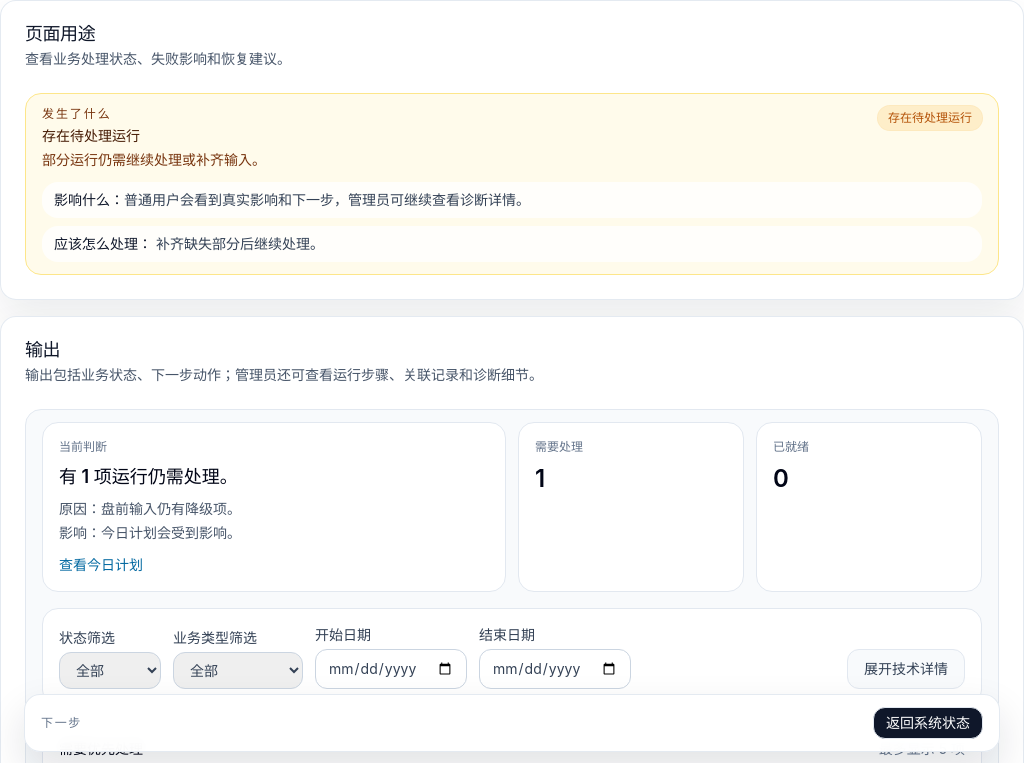
Scenario: SystemPage › shows admin diagnostics on /system/runs only for admins
The image size is (1024, 763).
expect the text "job-1" is not shown: met
Step 1. Click the button "展开技术详情" → (906, 669), box top-left (847, 649), bottom-right (965, 689)
(page scrolled)
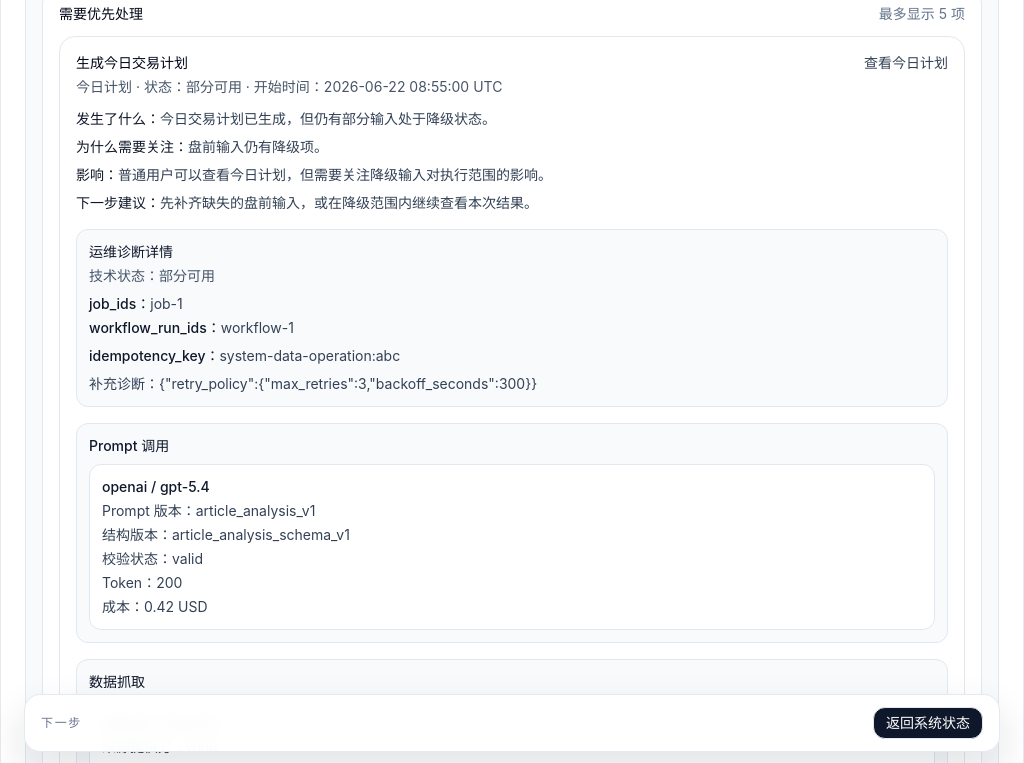
expect the text "job-1" is shown: met, box top-left (150, 295), bottom-right (183, 312)
expect the text "workflow-1" is shown: met, box top-left (221, 319), bottom-right (294, 336)
expect the text "Prompt 调用" is shown: met, box top-left (89, 437), bottom-right (169, 454)
